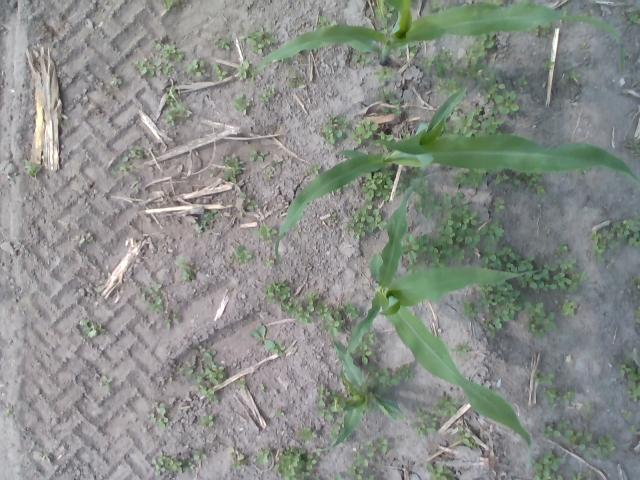Maize: (275, 87, 639, 265), (345, 178, 541, 446), (258, 1, 622, 73), (318, 331, 408, 452)
Weeds: (482, 244, 588, 292), (469, 34, 519, 116), (433, 192, 480, 268), (177, 344, 226, 404), (482, 282, 522, 338), (590, 219, 640, 261), (345, 436, 387, 480), (346, 203, 388, 239), (275, 447, 317, 478), (453, 112, 505, 137), (524, 300, 556, 338), (531, 448, 567, 480), (402, 233, 432, 271), (362, 170, 396, 201), (262, 278, 293, 311), (318, 386, 348, 420), (617, 360, 640, 402), (240, 27, 277, 53), (584, 433, 618, 460), (436, 51, 468, 78), (512, 170, 545, 195), (349, 117, 378, 144), (134, 58, 176, 76), (152, 452, 182, 476), (222, 152, 245, 183), (294, 291, 316, 323), (248, 323, 276, 348), (429, 395, 458, 417), (454, 425, 479, 450), (481, 218, 505, 244), (563, 430, 592, 451), (155, 43, 185, 62), (420, 193, 441, 220), (378, 368, 399, 394), (80, 318, 106, 338), (149, 402, 168, 429), (196, 210, 218, 233), (408, 420, 436, 438), (458, 300, 484, 319), (324, 311, 344, 335), (254, 224, 278, 244), (162, 106, 188, 124), (466, 167, 486, 190), (376, 4, 394, 28), (426, 464, 452, 480), (487, 168, 510, 186), (186, 58, 206, 78), (436, 78, 459, 95), (321, 126, 342, 144), (379, 86, 398, 105), (122, 146, 144, 162), (355, 344, 372, 364), (233, 94, 250, 114), (232, 450, 248, 470), (534, 370, 554, 386), (174, 258, 196, 272), (342, 302, 361, 318), (376, 131, 392, 150), (411, 177, 430, 193), (580, 402, 596, 420), (162, 0, 184, 13), (237, 245, 252, 264), (296, 426, 313, 442), (145, 296, 162, 312), (374, 67, 390, 84), (544, 389, 558, 408), (237, 60, 250, 80), (254, 448, 270, 464), (562, 300, 578, 316), (367, 366, 379, 387), (545, 423, 560, 438), (269, 341, 285, 355), (214, 38, 230, 52), (399, 362, 413, 378), (514, 75, 528, 91), (627, 7, 640, 24), (288, 76, 306, 88), (328, 423, 338, 444), (414, 406, 429, 420), (250, 150, 269, 161), (200, 412, 214, 426), (24, 160, 38, 174), (422, 57, 434, 73), (316, 302, 329, 316), (215, 66, 228, 80), (452, 343, 470, 353), (410, 200, 421, 216), (192, 449, 206, 461), (452, 174, 466, 186), (146, 283, 162, 293), (337, 116, 350, 128), (310, 163, 322, 175), (246, 198, 258, 210), (408, 42, 420, 54), (563, 390, 576, 401), (494, 198, 504, 212), (110, 74, 122, 85), (544, 60, 556, 71), (622, 410, 634, 421), (102, 376, 114, 386), (80, 234, 92, 244), (326, 114, 338, 124), (558, 420, 570, 430), (260, 258, 274, 266), (486, 0, 504, 6), (236, 376, 246, 386), (543, 22, 551, 34), (430, 0, 443, 7), (173, 313, 183, 322), (360, 54, 368, 65), (392, 107, 401, 116), (260, 93, 269, 102), (6, 410, 15, 419), (366, 332, 374, 342), (318, 16, 326, 26), (267, 82, 275, 92), (118, 166, 128, 174), (571, 69, 579, 79), (630, 277, 640, 285), (430, 417, 438, 427), (560, 7, 568, 16), (334, 471, 342, 480), (634, 306, 640, 317), (277, 409, 285, 417), (182, 274, 190, 282), (532, 28, 540, 36), (165, 98, 174, 105), (165, 319, 171, 328), (630, 425, 636, 434), (260, 381, 265, 391), (380, 106, 388, 112), (169, 90, 177, 96), (238, 192, 246, 198), (452, 107, 458, 115), (573, 474, 581, 480), (188, 462, 195, 468), (330, 22, 338, 27), (128, 165, 136, 170), (352, 55, 357, 62), (268, 172, 274, 177)
